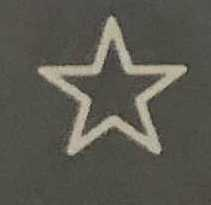star: (26, 9, 194, 175)
